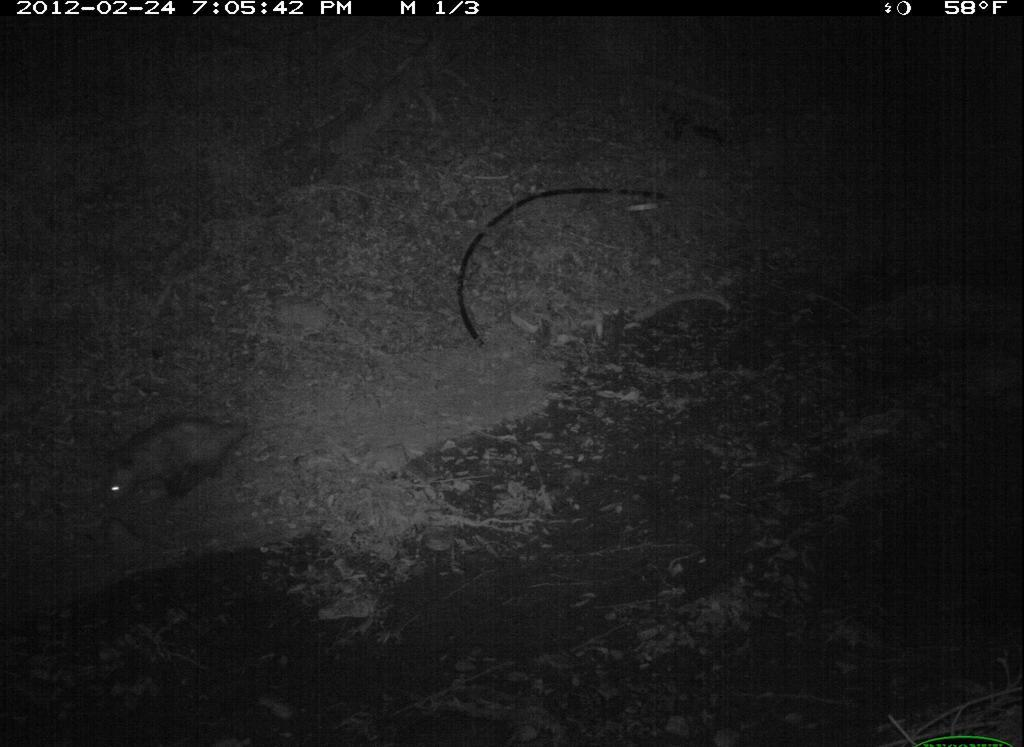opossum: (91, 409, 263, 524)
